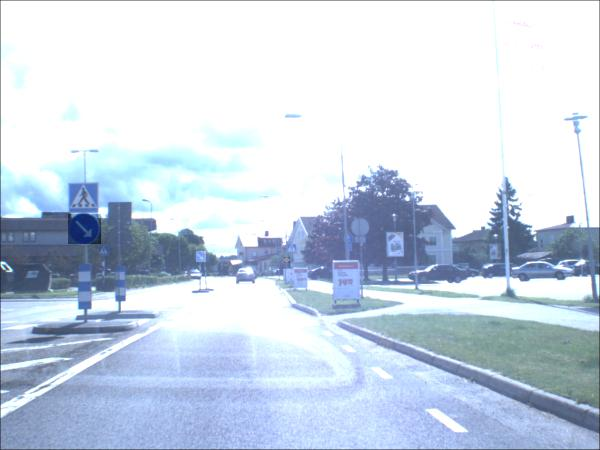PASS_RIGHT_SIDE: (69, 215, 103, 246), (197, 252, 208, 264)
PEDESTRIAN_CROSSING: (70, 184, 101, 215), (100, 248, 111, 258), (288, 245, 299, 255)
PRIORITY_ROAD: (285, 258, 292, 265)
